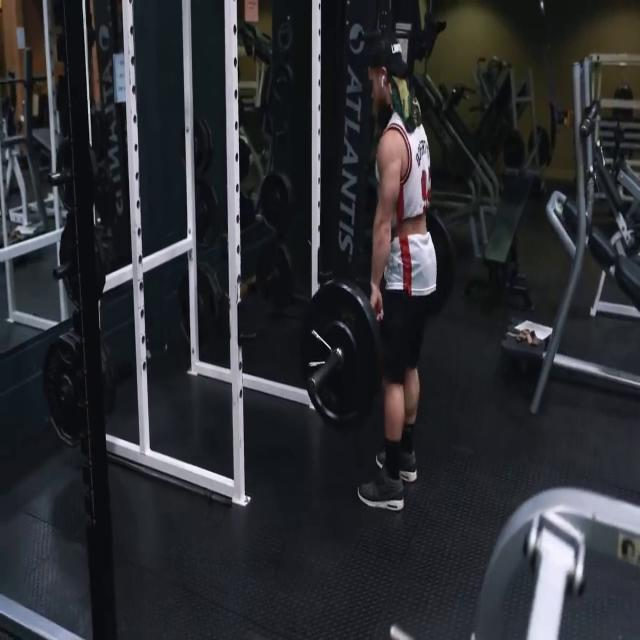Romanian Deadlift: (286, 23, 486, 539)
